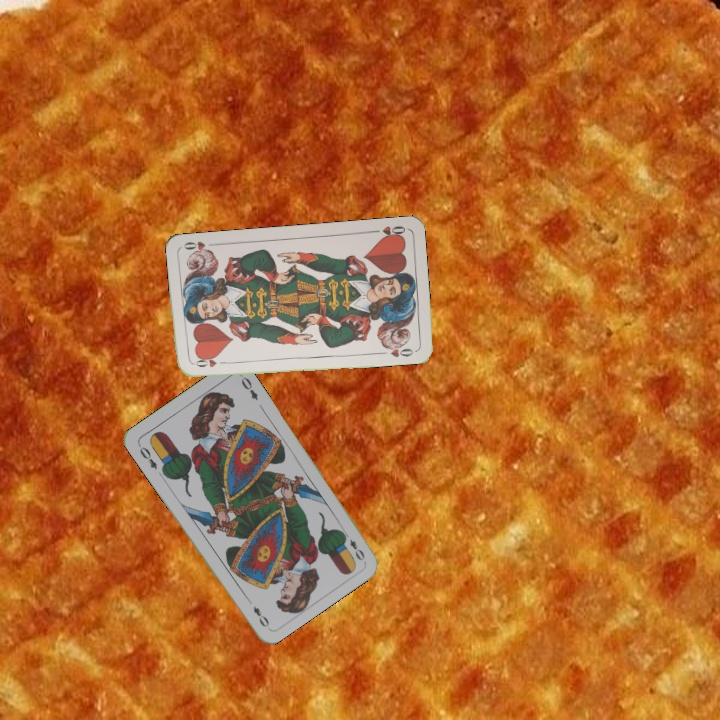EO: (339, 527, 368, 563), (134, 440, 160, 472)
HO: (368, 222, 408, 241), (189, 356, 230, 370)
